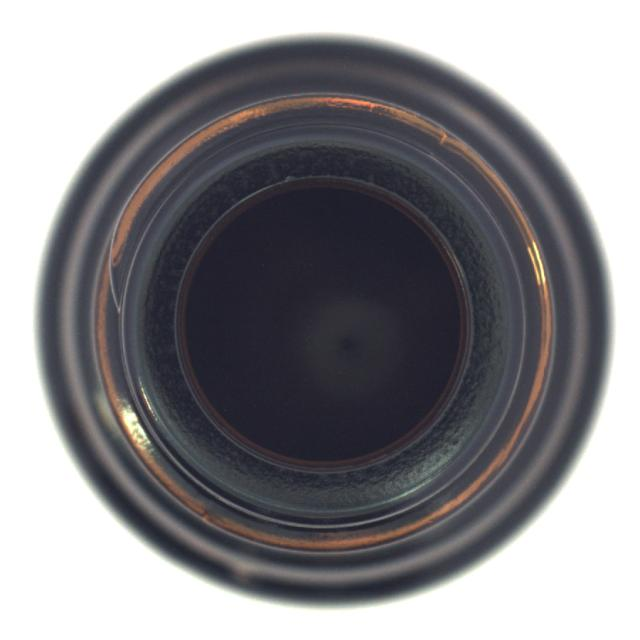bottle-good: (35, 35, 602, 605)
